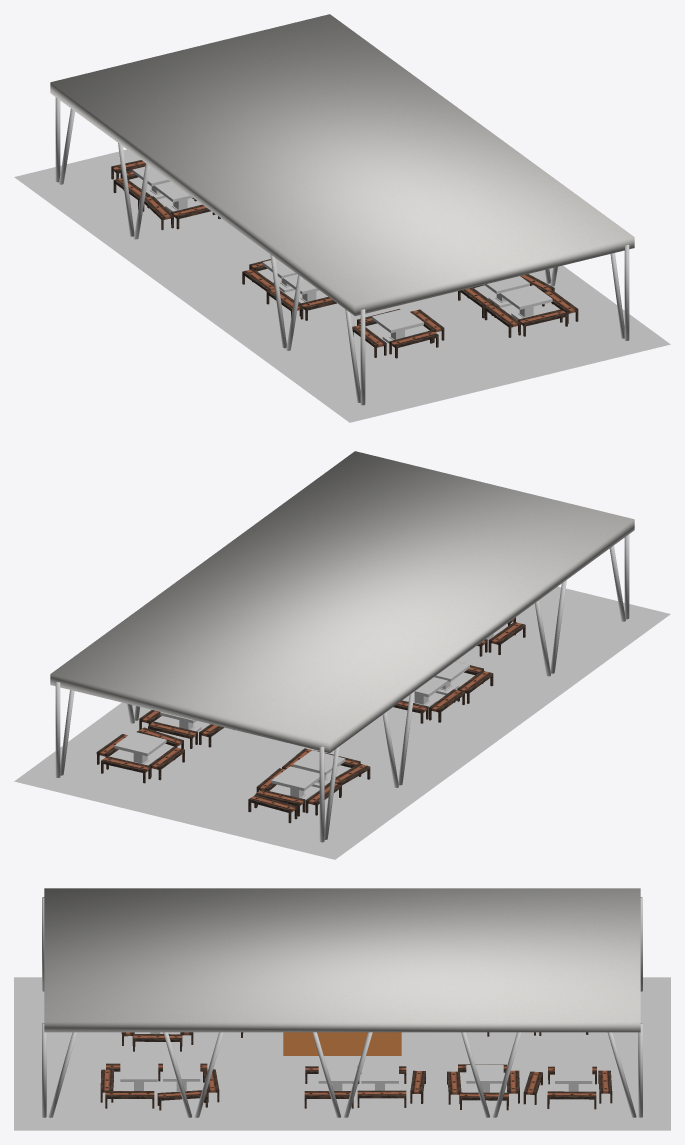
File: Plasno.gltf
3 renders of one model, top to bottom at view 1: azimuth 30°, elevation 25°; view 2: azimuth 150°, elevation 25°; view 3: azimuth 270°, elevation 25°, orthographic. The views are drawn at different scales.
Parts seen in each view (by area): view 1: Cube.006, Marble Floor.000, Plane, Cube.010, Table1.014, Table1.015, Table1.013, Table1.008; view 2: Cube.006, Marble Floor.000, Plane, Cube.010, Table1.006, Table1.007, Table1.008; view 3: Cube.006, Marble Floor.000, Plane, Cube.010, Cube.005, Table1.014, Table1.006, Table1.011, Table1.013, Table1, Table1.012, Cube.016 (+9 smaller).
Part boxes in pixels (box(x1,y1,x2,y2)): Cube.006: box(50, 14, 634, 316); Marble Floor.000: box(65, 171, 619, 400); Plane: box(14, 149, 670, 422); Cube.010: box(55, 97, 629, 405); Table1.014: box(500, 285, 552, 319); Table1.015: box(371, 308, 423, 343); Table1.013: box(484, 276, 529, 307); Table1.008: box(154, 181, 192, 211); Cube.006: box(50, 451, 634, 753); Marble Floor.000: box(65, 600, 619, 837); Plane: box(14, 586, 670, 859); Cube.010: box(55, 534, 629, 842); Table1.006: box(114, 731, 166, 765); Table1.007: box(271, 766, 319, 801); Table1.008: box(293, 750, 345, 787); Cube.006: box(44, 888, 640, 1032); Marble Floor.000: box(50, 1032, 634, 1114); Plane: box(14, 977, 670, 1130); Cube.010: box(42, 897, 642, 1117); Cube.005: box(283, 1032, 401, 1055); Table1.014: box(120, 1063, 157, 1090); Table1.006: box(555, 1065, 592, 1091); Table1.011: box(361, 1065, 398, 1090); Table1.013: box(163, 1063, 200, 1091); Table1: box(466, 1065, 503, 1092); Table1.012: box(318, 1065, 355, 1090); Cube.016: box(547, 1091, 596, 1109).
Bounding box in the file's own units: 50.48 × 15.22 × 91.41.
